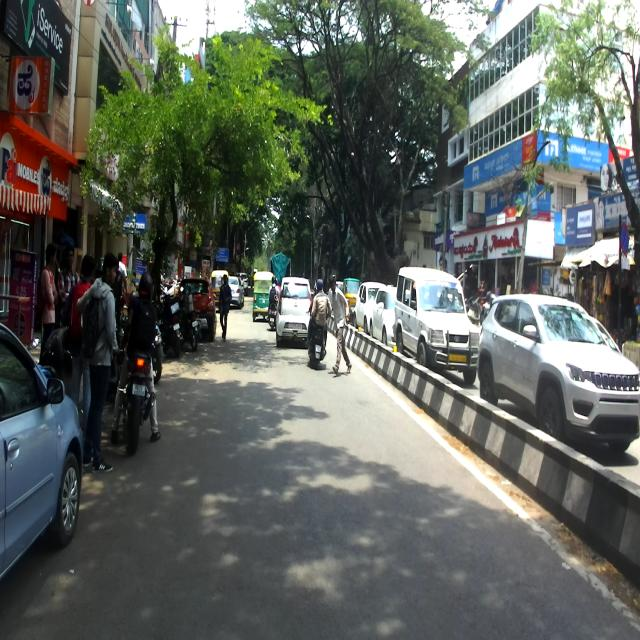car ahead at: (0, 324, 84, 588)
motorcycle ahead at: (118, 343, 164, 453)
person ahead at: (323, 269, 352, 382)
